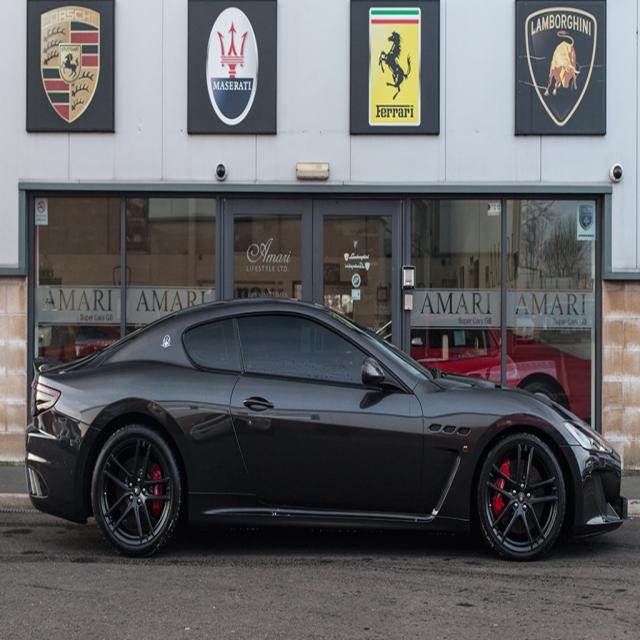car: (23, 297, 628, 562)
